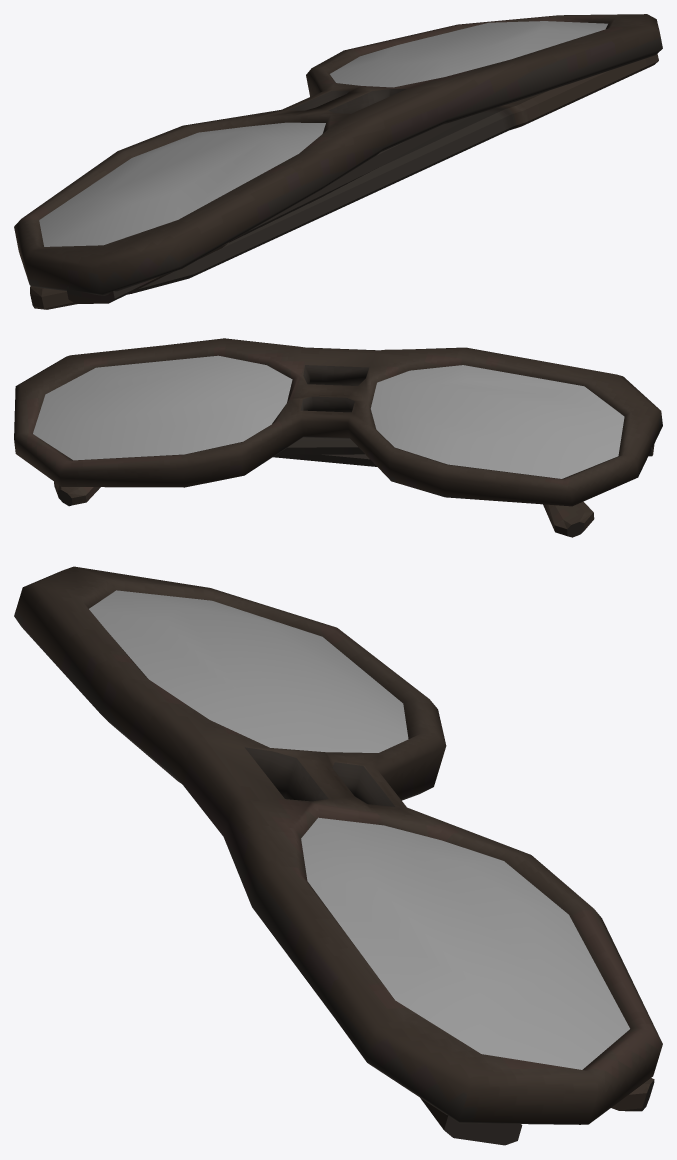
Rendered from Spectacle.FBX.
3 views of the same model, one above another, from view 1: azimuth 30°, elevation 25°; view 2: azimuth 150°, elevation 25°; view 3: azimuth 270°, elevation 25° (orthographic). The views are drawn at different scales.
Visible parts, largest first — view 1: Plane010; view 2: Plane010; view 3: Plane010.
Boxes of the visible parts, x1,y1,x2,y2 form: Plane010: (14,14,662,309); Plane010: (14,338,662,537); Plane010: (14,566,662,1145).
Size of the model in its own units: 48.27 by 9.59 by 27.09.
2 materials, 1 textured.
